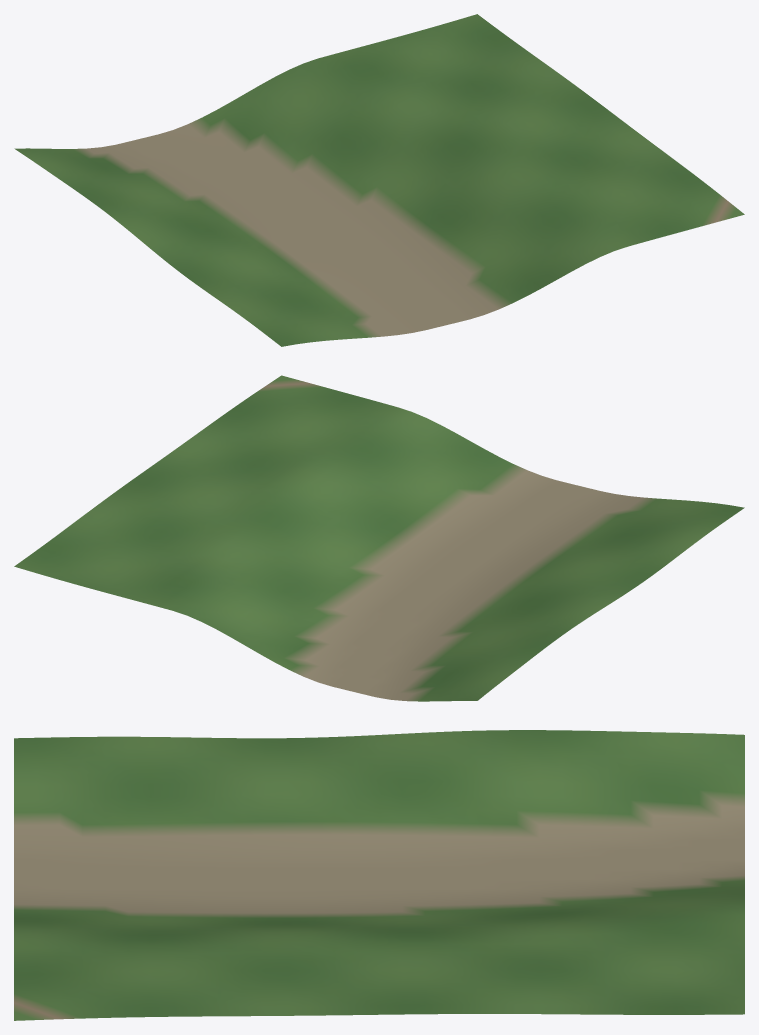
File: chunk_5_7.glb
3 views of the same model, one above another, from view 1: azimuth 30°, elevation 25°; view 2: azimuth 150°, elevation 25°; view 3: azimuth 270°, elevation 25° (orthographic). The views are drawn at different scales.
Size of the model in its own units: 512 by 45.24 by 512.
